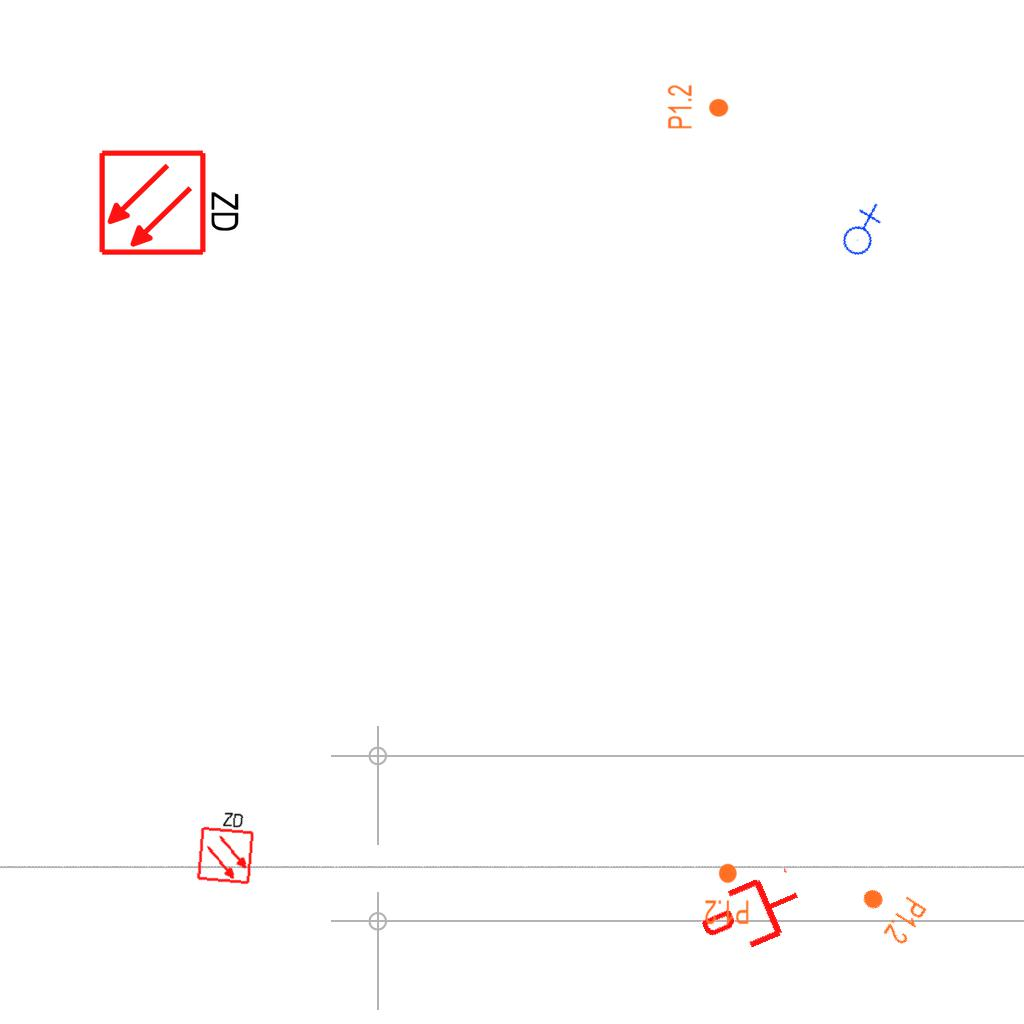Datenanschluss_einfach: (692, 862, 813, 966)
Downlight_LED_Einbauleuchten_Flur: (850, 874, 930, 948), (666, 84, 730, 130), (704, 862, 750, 926)
Elektroanschluss_allgemein_230V_Geraeteanschlussdose_230V: (829, 200, 892, 261)
ZD_Melder_in_Zwischendecke_mit_Revisionsoeffnung_mind_40_x_40_cm: (97, 144, 246, 258), (193, 806, 258, 886)
